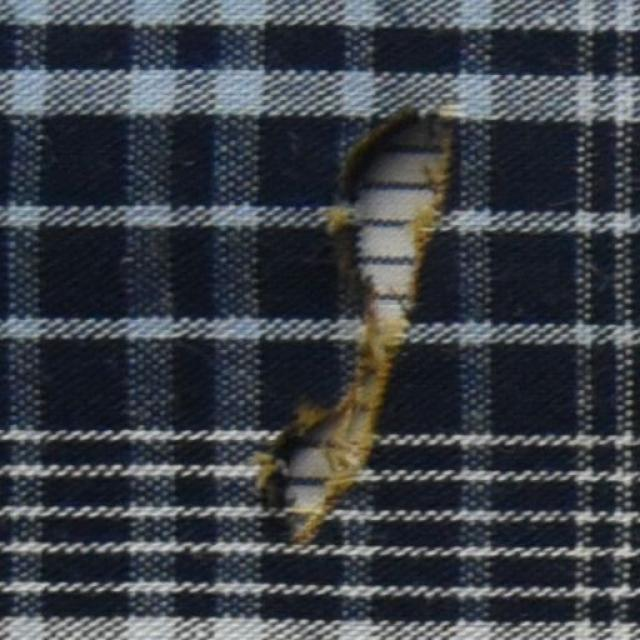Hole: (363, 134, 440, 293), (292, 423, 335, 519)
Stain: (260, 115, 447, 555)
